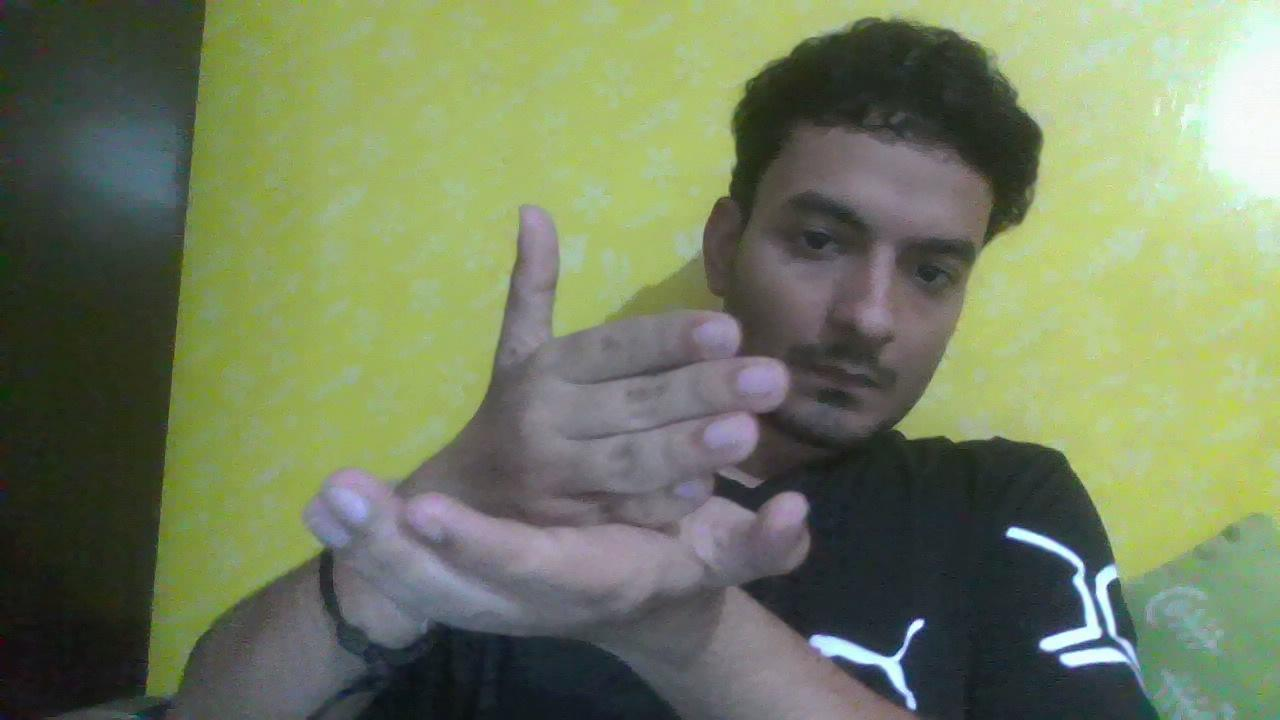stop: (309, 242, 816, 622)
